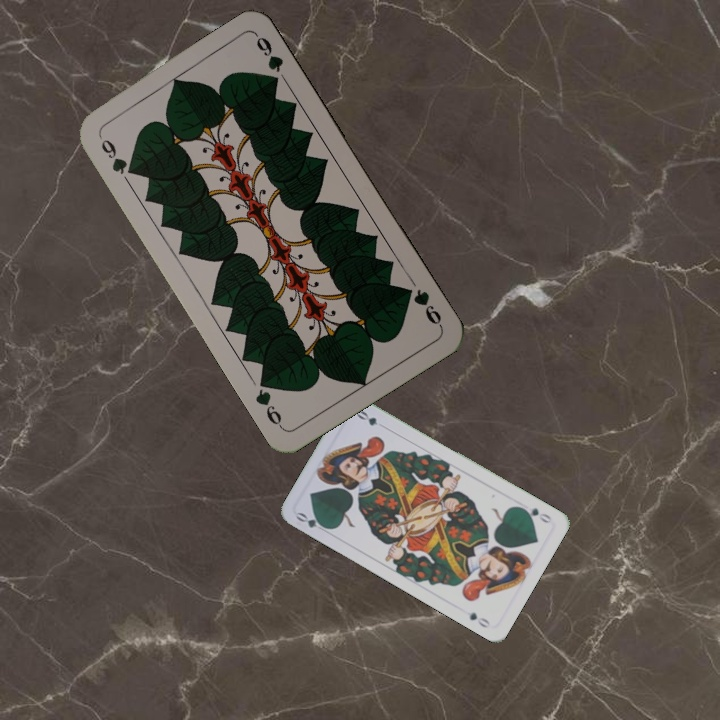G9: (399, 283, 445, 330), (97, 135, 139, 178)
GO: (292, 508, 332, 536), (516, 503, 554, 526)
